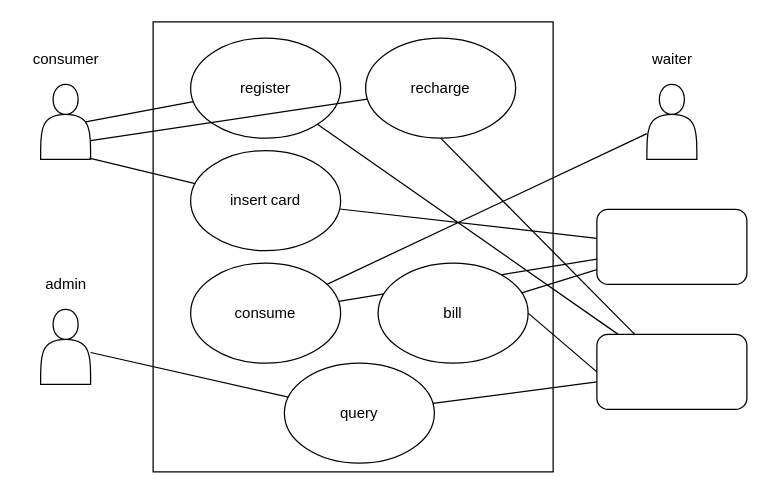
This 769x494 diagram has some shape labels left out. Each missing label, with the centre of its shape:
"收款机" belongs at [671,246].
"管理中心" belongs at [671,371].
